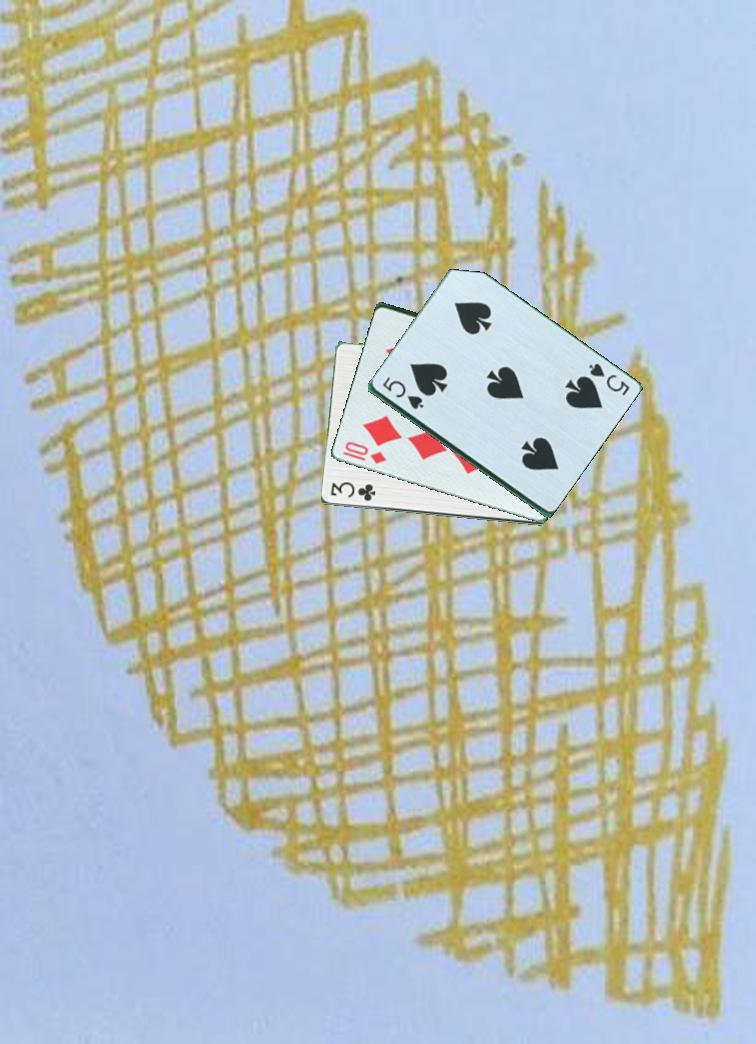3c: (327, 479, 383, 505)
5s: (578, 360, 632, 403), (374, 374, 426, 412)
td: (341, 438, 389, 467)
